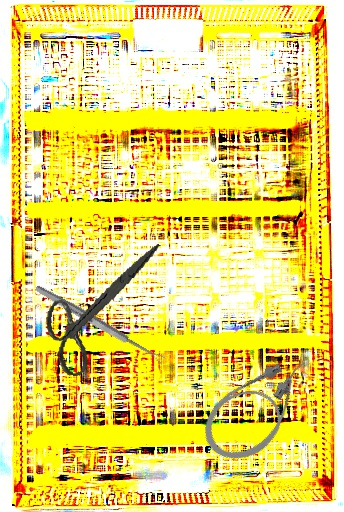Cannula: (190, 345, 330, 475)
Iris Scissors: (36, 227, 162, 387)
Surgical Spoon: (33, 283, 167, 366)
